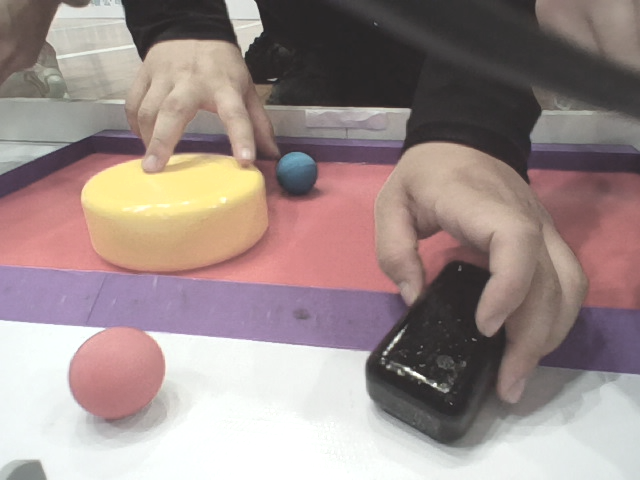blue: (273, 151, 320, 197)
kuang: (1, 122, 640, 378)
red: (65, 327, 168, 424)
yellow: (79, 157, 277, 270)
